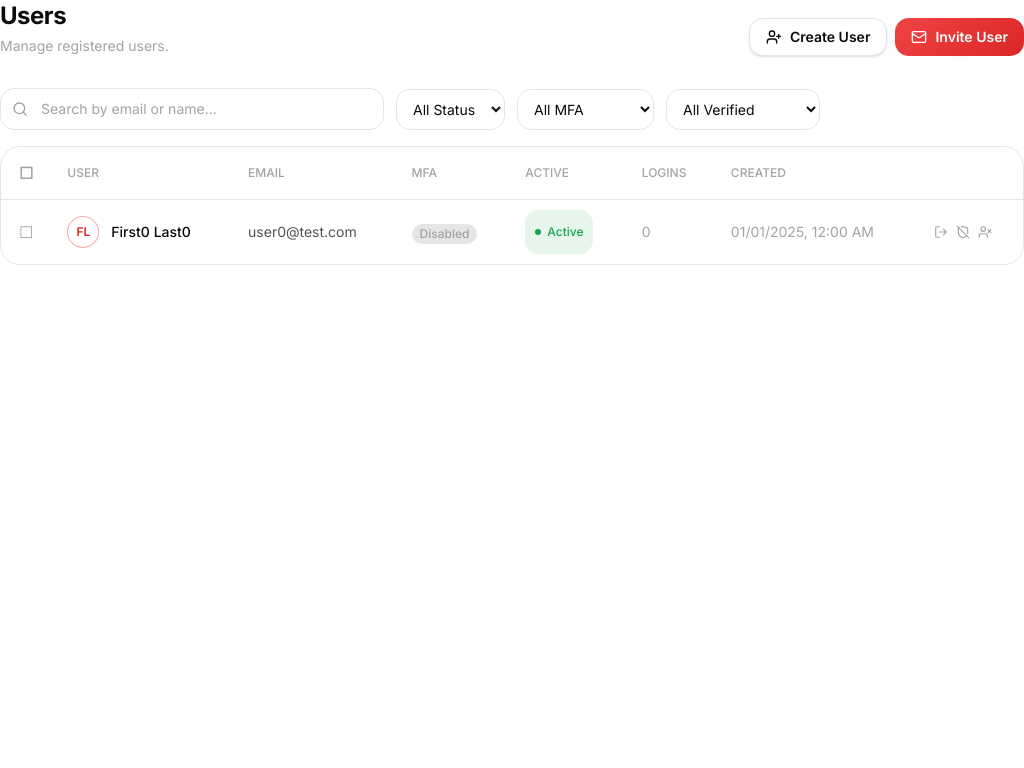
Test: AdminUsersPage › shows scopes in drawer
The width and height of the screenshot is (1024, 768).
Click the row with test id "user-table-row" at [83, 232], box [1, 200, 1023, 264]
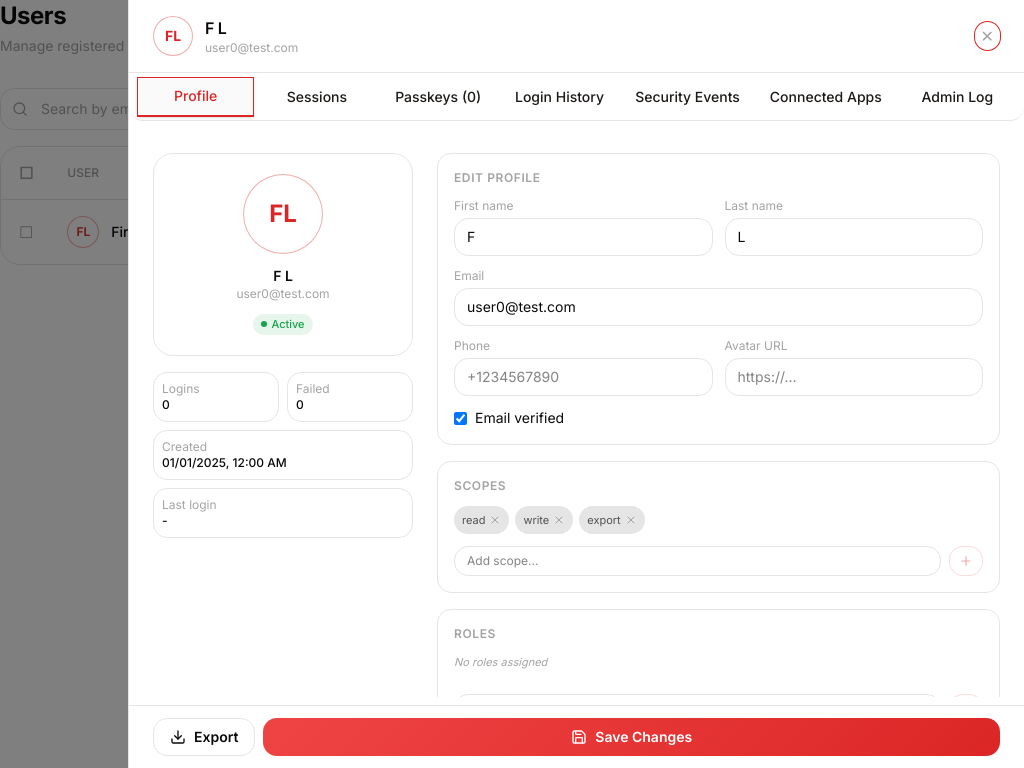
expect the text "read" is shown: met, box [454, 506, 509, 534]
expect the text "write" is shown: met, box [515, 506, 573, 534]
expect the text "export" is shown: met, box [579, 506, 645, 534]
